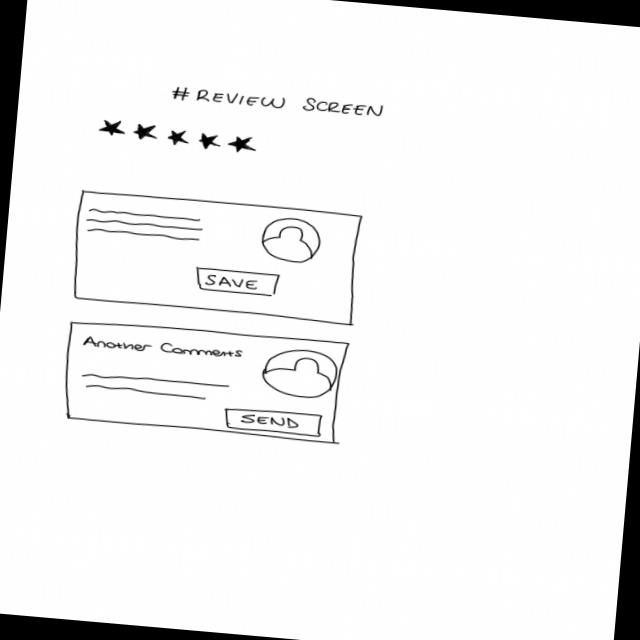button: (223, 405, 326, 439), (193, 266, 285, 298)
container: (69, 188, 367, 328), (60, 316, 351, 446)
image: (261, 346, 341, 402), (261, 215, 324, 266)
label: (171, 85, 388, 123), (80, 333, 247, 362)
textbox: (79, 371, 233, 405), (83, 207, 205, 244)
